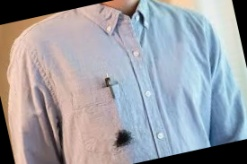ink: (112, 129, 132, 148)
